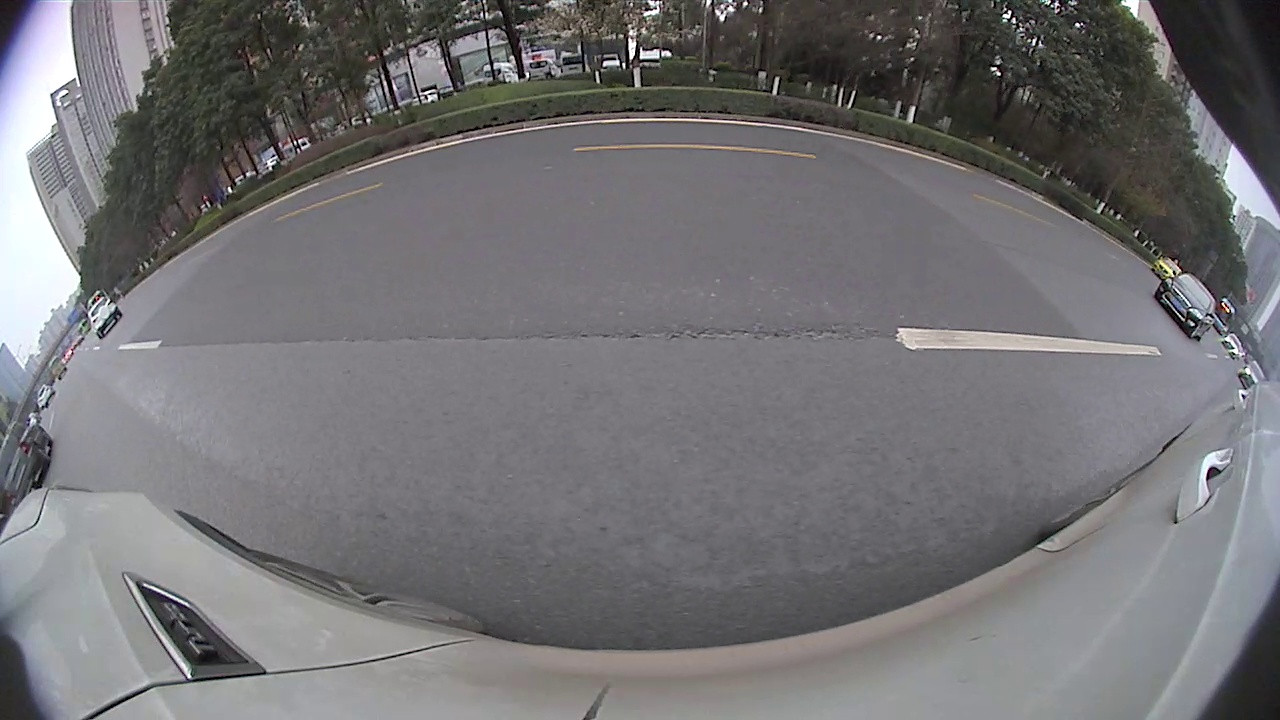car: (1, 418, 54, 508), (1154, 272, 1218, 341), (87, 294, 123, 339), (1152, 254, 1184, 283)
